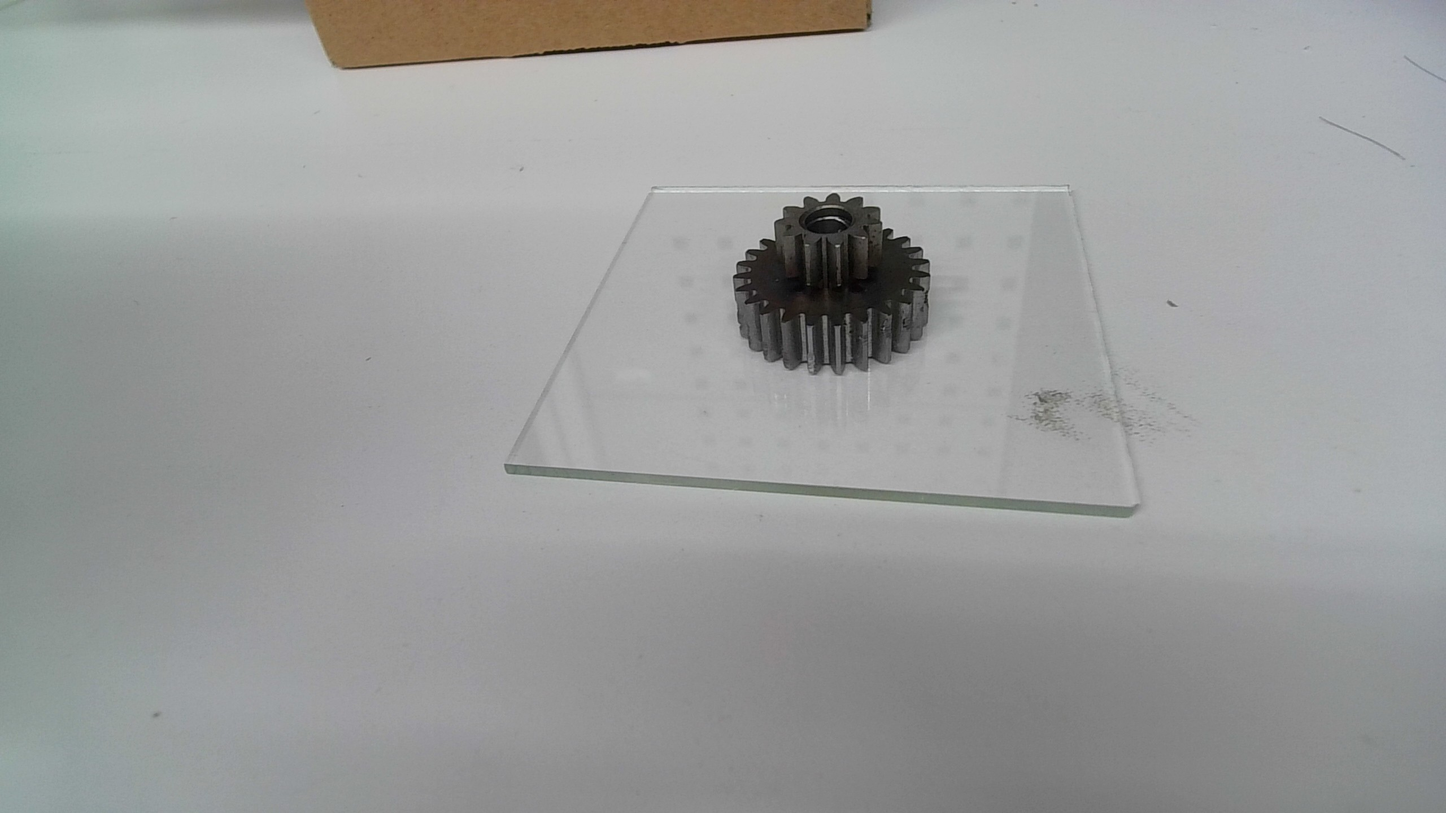gear: (730, 183, 934, 379)
